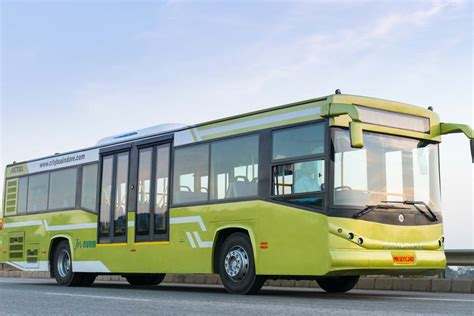bus: (6, 103, 447, 291)
